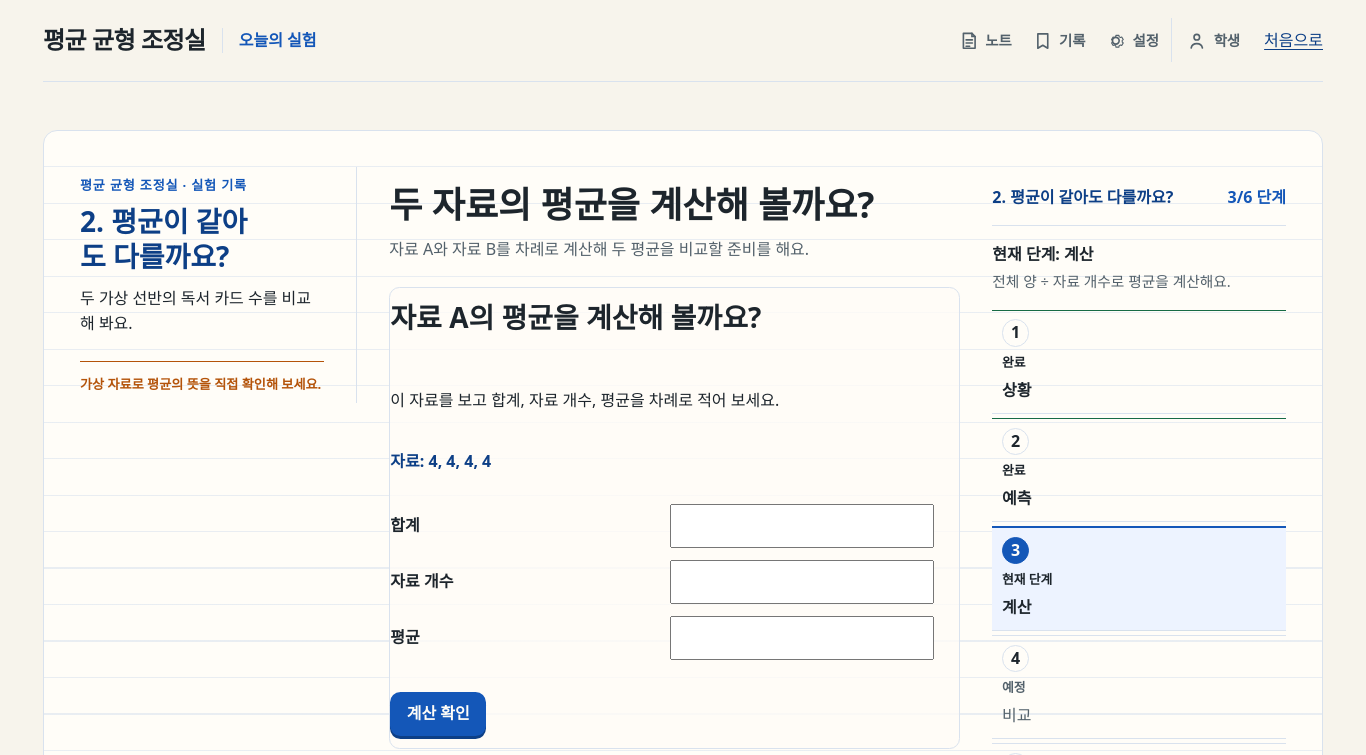
Test: learning router › maps both twin datasets to separate calculation targets in sequence
This screenshot has width=1366, height=755.
In the number field labelled "합계": point(802, 526) left=670, top=504, right=934, bottom=548, type "16"
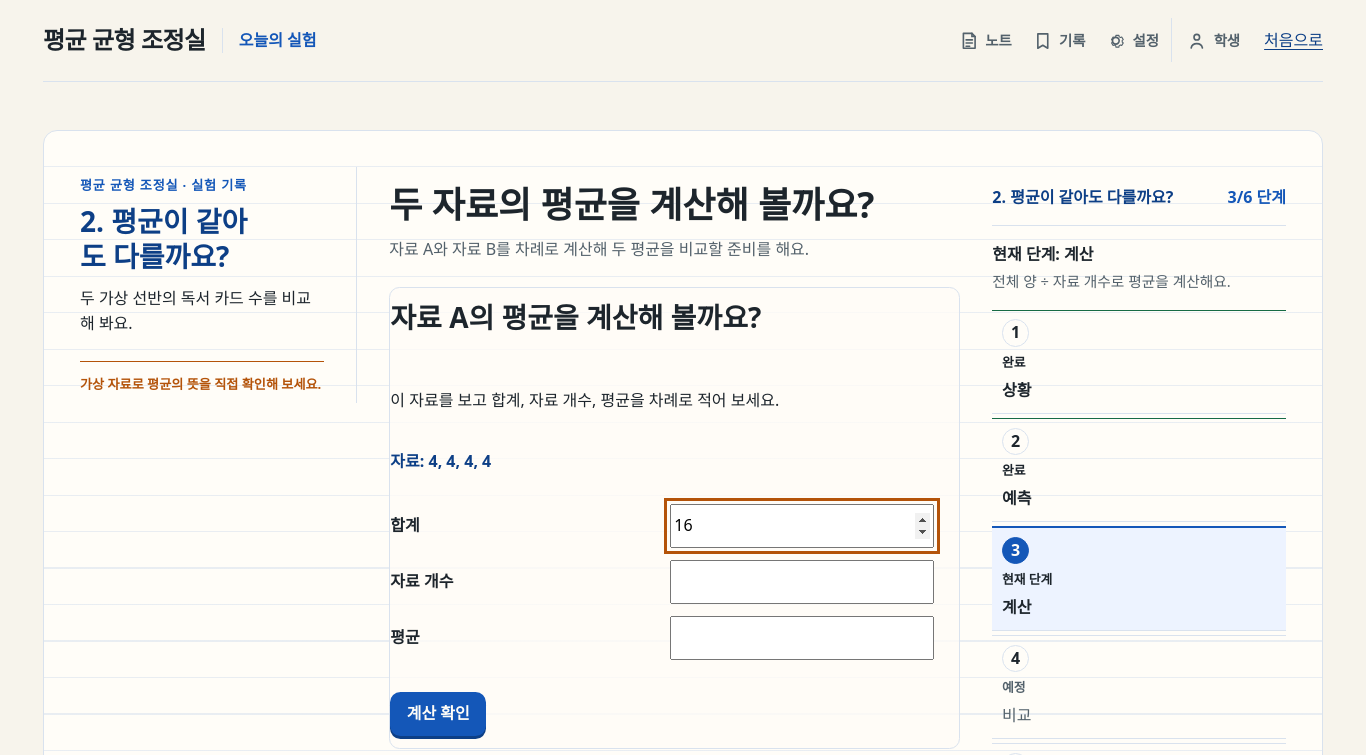
In the number field labelled "자료 개수": point(802, 582) left=670, top=560, right=934, bottom=604, type "4"
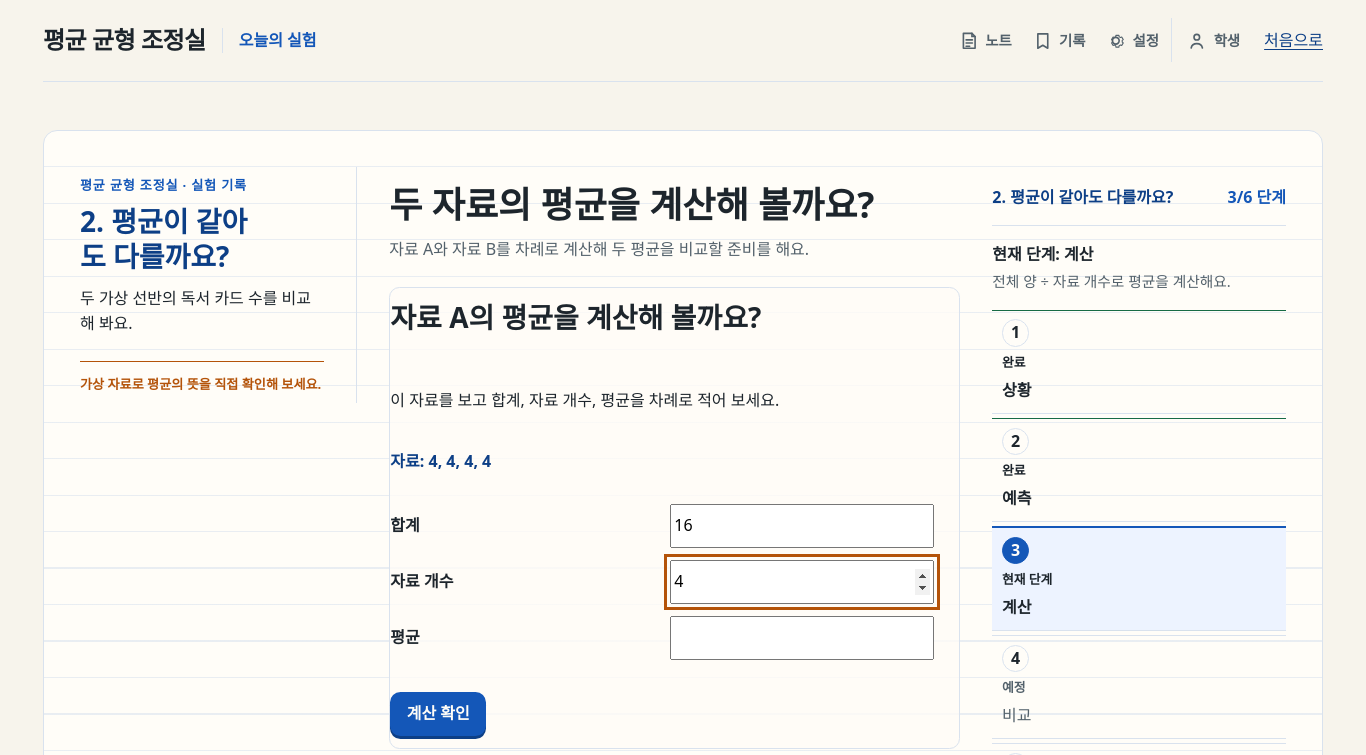
In the number field labelled "평균": point(802, 638) left=670, top=616, right=934, bottom=660, type "4"
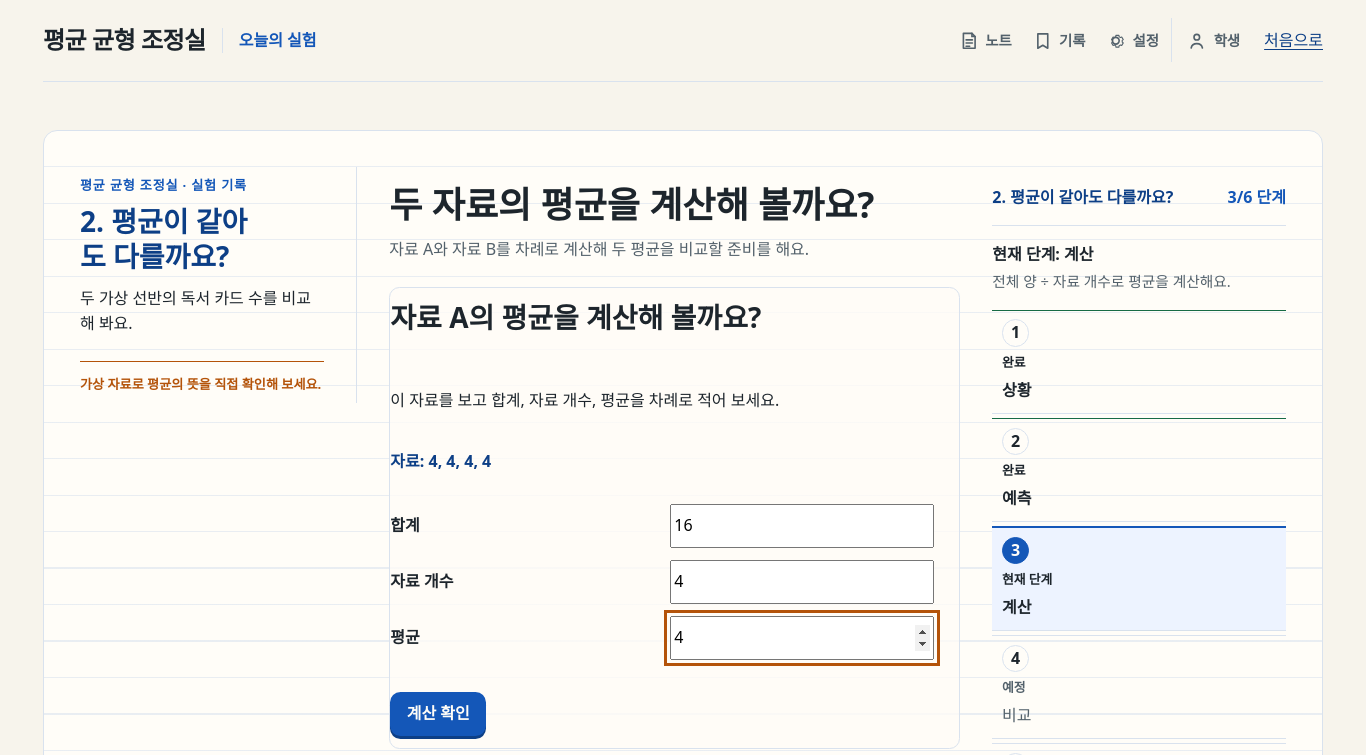
Click the button "계산 확인": point(438, 714) left=390, top=692, right=486, bottom=736
(page scrolled)
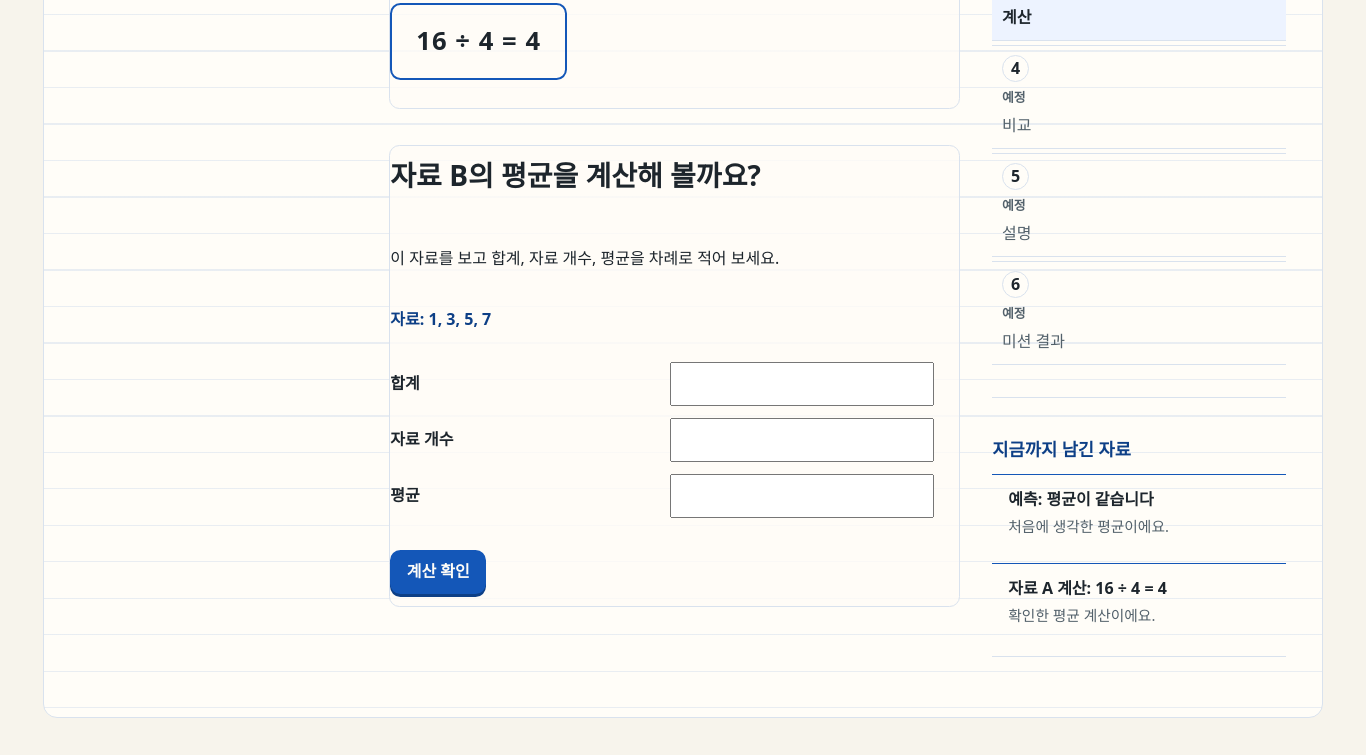
expect the number of number fields is 3: met, box left=670, top=362, right=934, bottom=406; left=670, top=418, right=934, bottom=462; left=670, top=474, right=934, bottom=518
expect the text "16 ÷ 4 = 4" is shown 2 times: met, box left=390, top=3, right=567, bottom=80; left=1008, top=577, right=1167, bottom=599
expect the number field labelled "합계" is enabled: met, box left=670, top=362, right=934, bottom=406
